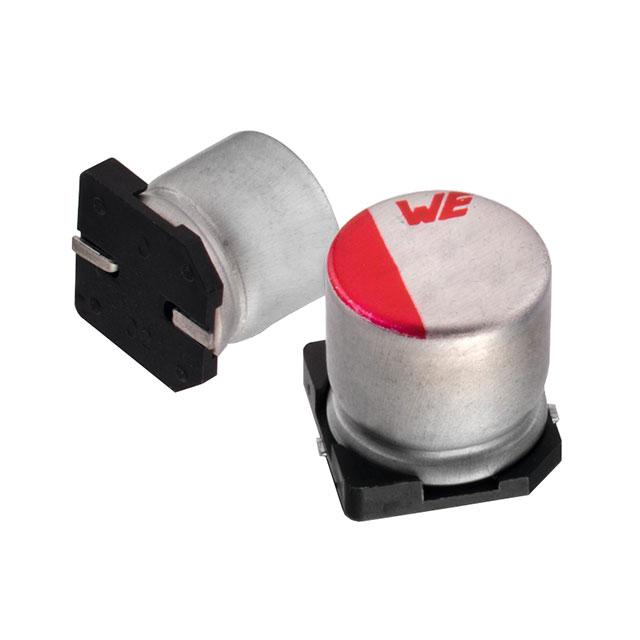Capacitor: (318, 190, 561, 519), (70, 130, 341, 395)
